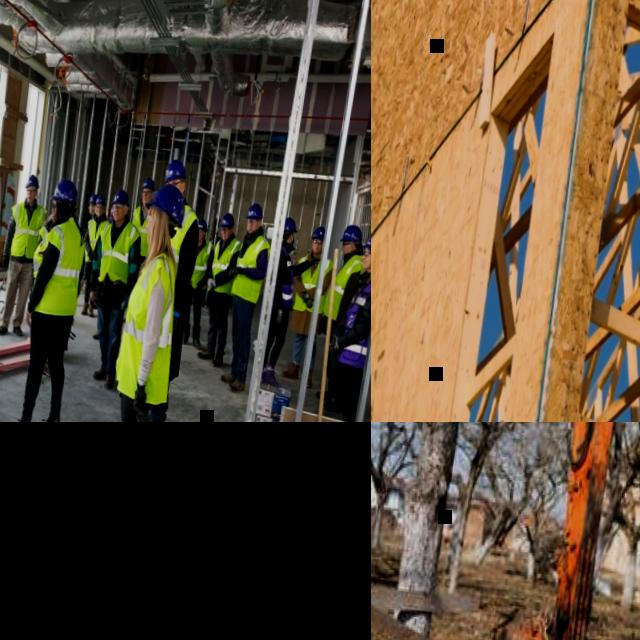Hardhat: (142, 181, 188, 230), (48, 176, 79, 204), (162, 158, 188, 186), (339, 224, 363, 244), (110, 187, 131, 208), (243, 202, 263, 221), (359, 229, 371, 256), (218, 212, 235, 229), (282, 216, 299, 233), (24, 173, 40, 190), (140, 177, 156, 193), (195, 218, 209, 234), (311, 226, 325, 241), (86, 192, 97, 205), (94, 194, 105, 207), (108, 205, 113, 216), (213, 217, 221, 223)
Mask: (288, 234, 294, 247)
NO-Mask: (361, 257, 371, 272), (111, 211, 123, 222), (245, 225, 258, 235), (144, 227, 150, 245), (311, 244, 321, 254), (340, 248, 349, 259), (25, 194, 34, 203), (50, 210, 56, 222), (141, 197, 150, 205), (220, 233, 229, 241), (95, 210, 102, 216), (197, 235, 203, 242), (88, 209, 93, 215)
Person: (86, 177, 194, 422), (8, 173, 95, 422), (130, 157, 208, 422), (76, 185, 149, 393), (212, 200, 274, 393), (258, 216, 322, 394), (311, 223, 370, 414), (317, 225, 371, 422), (279, 224, 337, 391), (0, 170, 50, 339), (193, 211, 244, 369), (179, 216, 218, 351), (74, 193, 114, 320), (123, 175, 157, 273), (74, 192, 103, 306), (208, 216, 223, 243)
Safety Vest: (109, 246, 183, 404), (25, 213, 88, 318), (333, 275, 371, 373), (93, 216, 142, 286), (161, 200, 200, 286), (321, 251, 366, 323), (228, 233, 271, 306), (4, 199, 48, 260), (291, 253, 333, 314), (207, 235, 242, 297), (272, 245, 299, 312), (188, 238, 215, 292), (126, 205, 152, 257), (82, 216, 110, 264), (82, 218, 92, 253), (208, 226, 219, 244), (36, 224, 49, 239)
vehicle: (452, 422, 640, 640)
